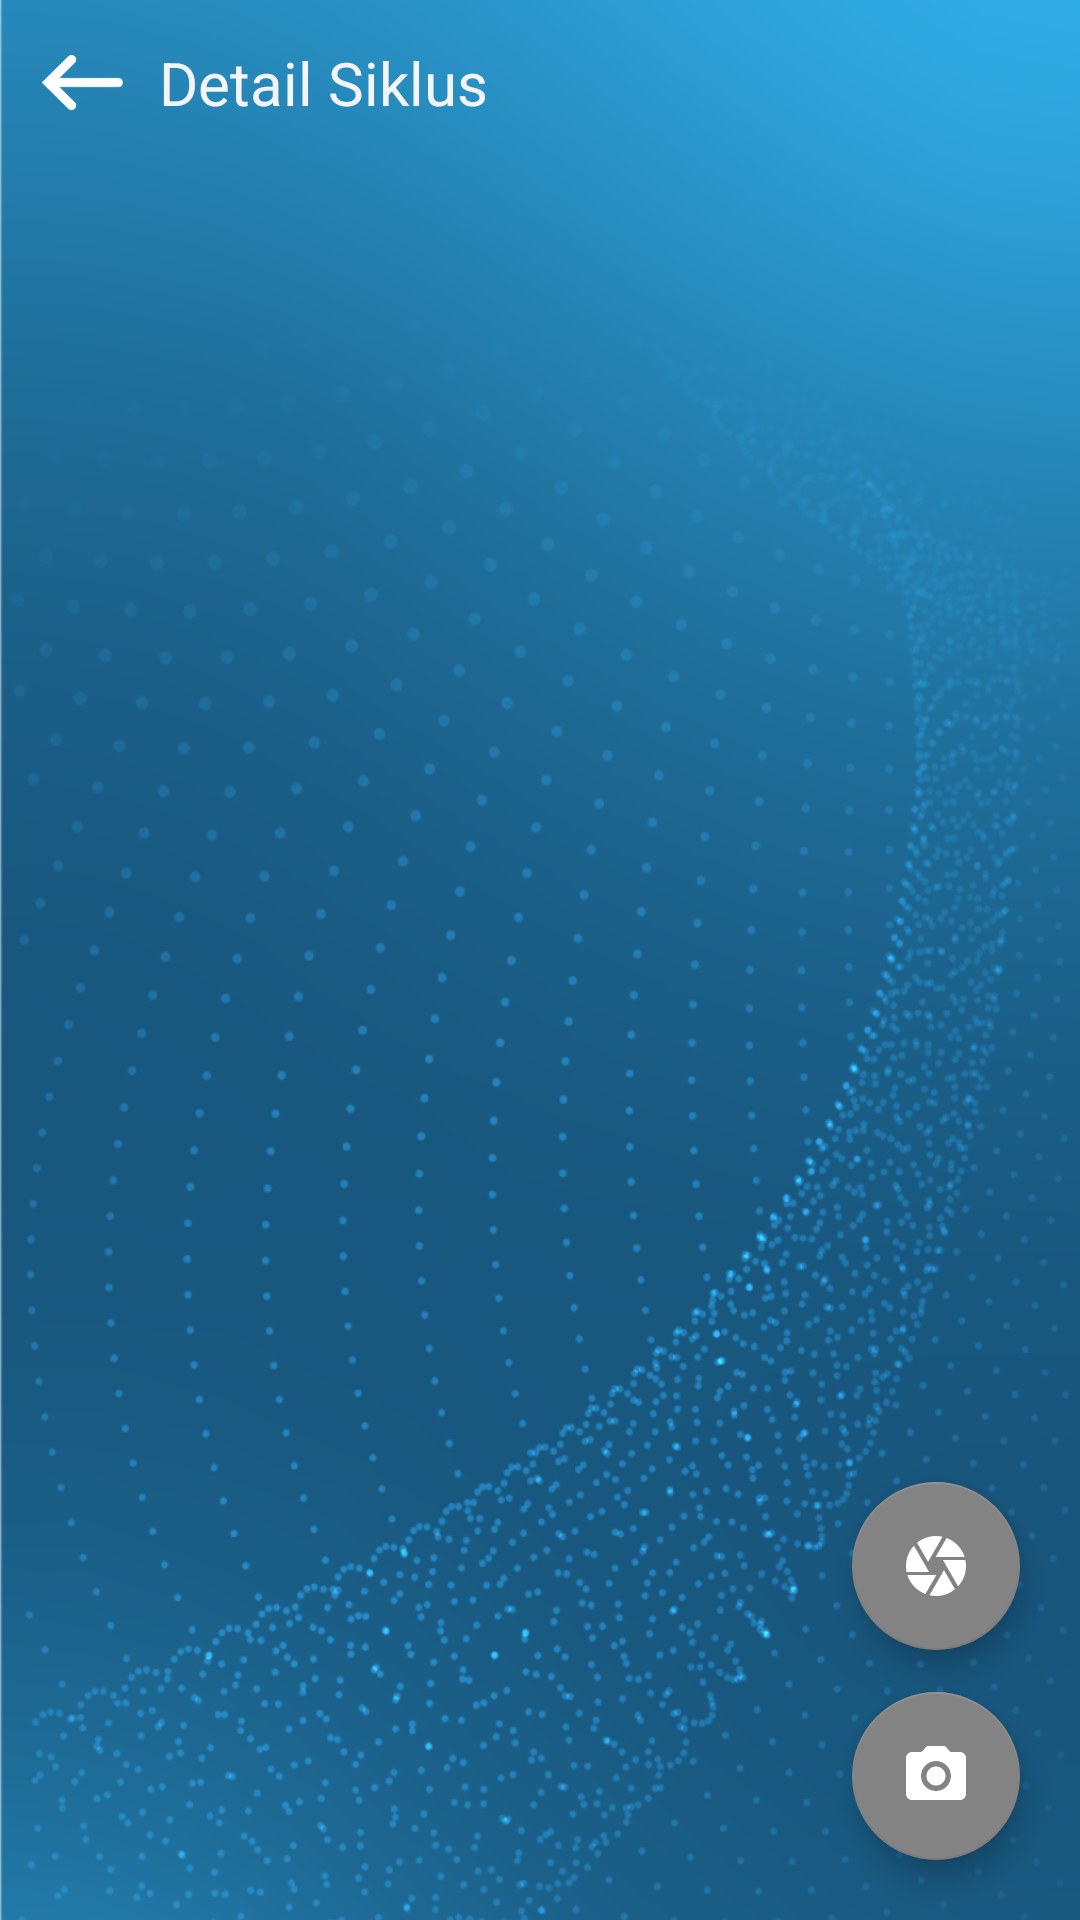

Icon bounding boxes for this 1080 x 1920 phone screenshot, format (x1, y1, x2, y2):
back: (42, 55, 123, 110)
open camera: (852, 1692, 1020, 1860)
